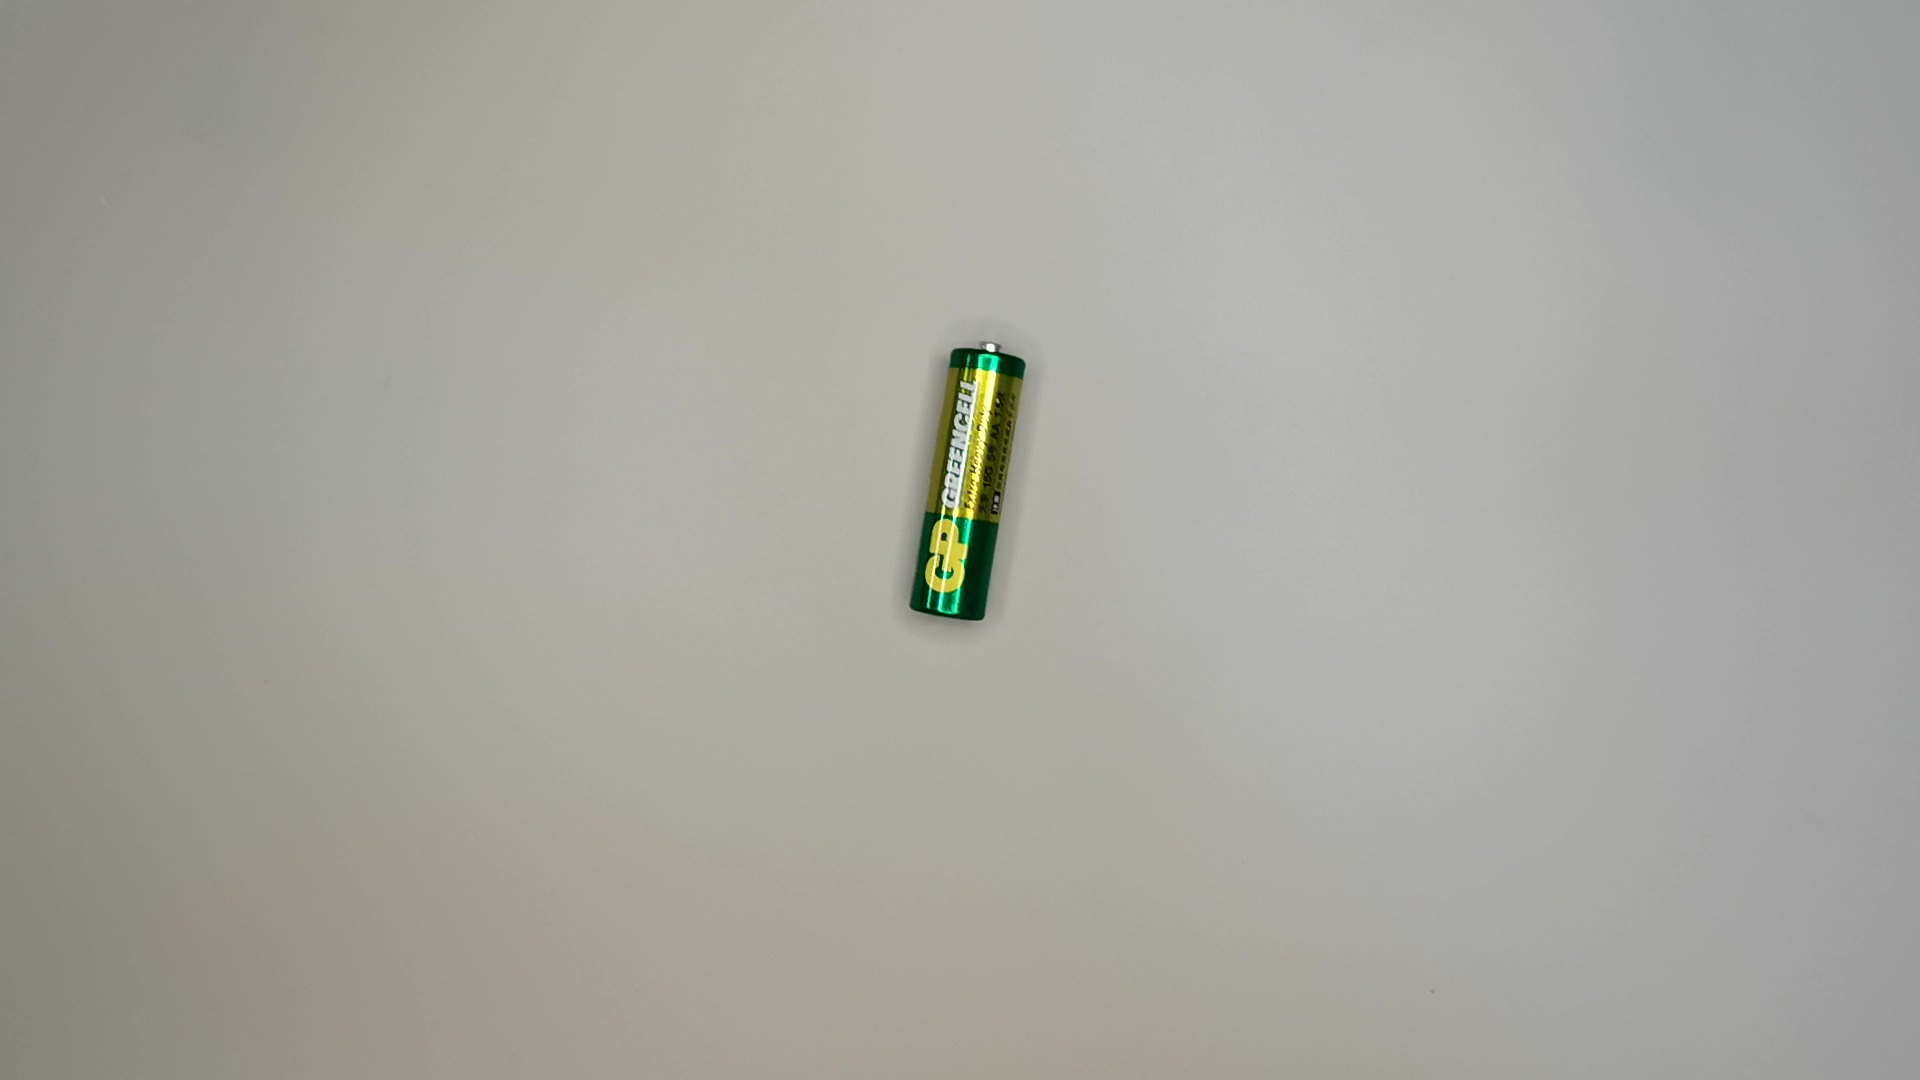battery: (906, 335, 1029, 632)
